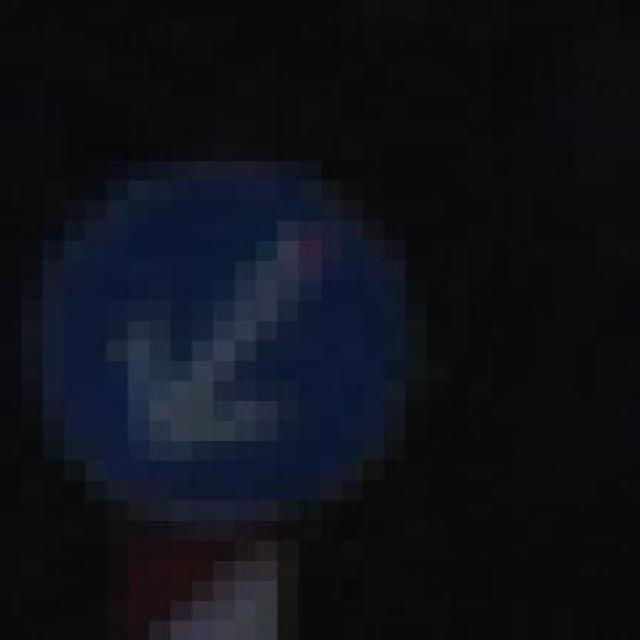Keep-Left: (42, 120, 448, 560)
